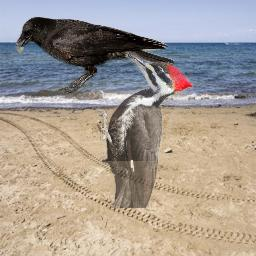Crow: (13, 16, 174, 94)
Woodpecker: (97, 50, 193, 208)
